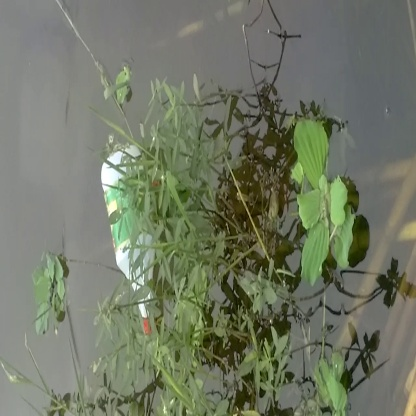bottle: (97, 143, 173, 326)
